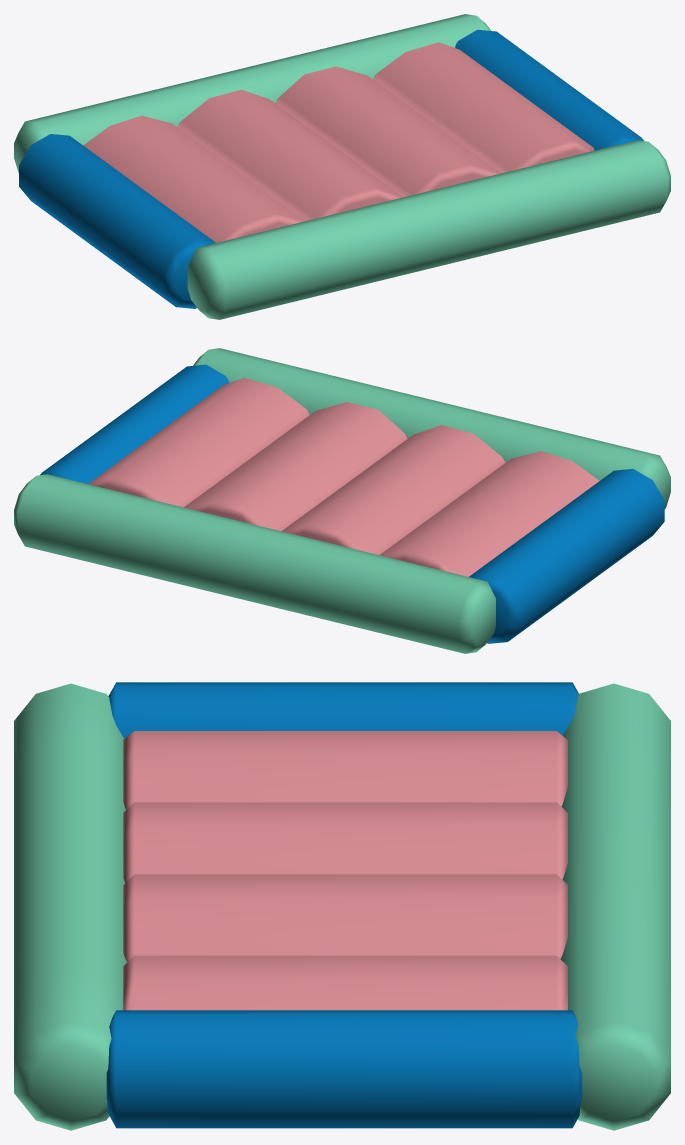
File: simplePlatform1.fbx
3 renders of one model, top to bottom at view 1: azimuth 30°, elevation 25°; view 2: azimuth 150°, elevation 25°; view 3: azimuth 270°, elevation 25°, orthographic. The views are drawn at different scales.
Visible parts, largest first — view 1: pCube1, pCylinder6, pCylinder7; view 2: pCube1, pCylinder6, pCylinder7; view 3: pCube1, pCylinder6, pCylinder7.
Part boxes in pixels (box(x1,y1,x2,y2)): pCube1: box(83, 42, 594, 242); pCylinder6: box(14, 14, 670, 319); pCylinder7: box(19, 29, 643, 308); pCube1: box(89, 377, 599, 576); pCylinder6: box(14, 348, 670, 653); pCylinder7: box(40, 364, 664, 643); pCube1: box(123, 731, 567, 1010); pCylinder6: box(14, 683, 670, 1130); pCylinder7: box(106, 682, 582, 1128).
Size of the model in its own units: 14.84 by 2.08 by 10.95.
